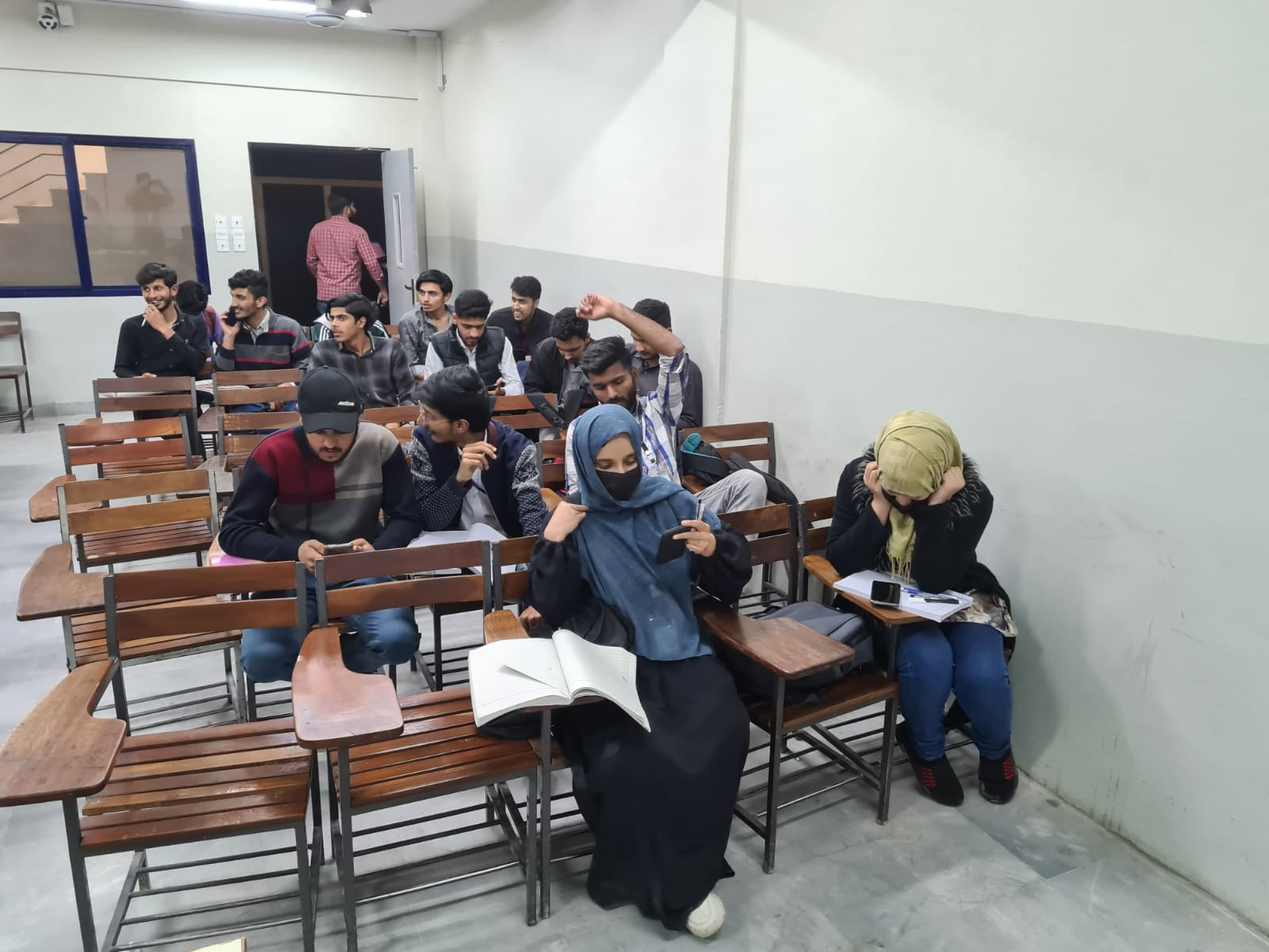non-cheating: (572, 404, 648, 504), (296, 366, 361, 464), (579, 336, 641, 412), (451, 289, 494, 348), (550, 307, 591, 365)
phone: (654, 518, 715, 567), (299, 537, 374, 559), (870, 579, 903, 611), (219, 305, 242, 336)
